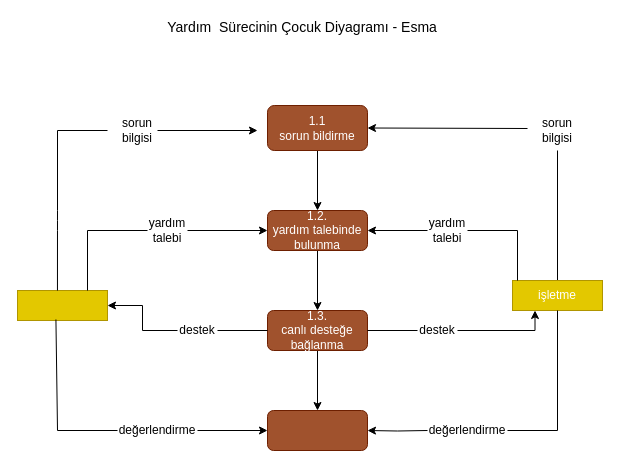
Image size: 620x468. Some labels were removed from this diagram. Here are the shapes that lost their labels. From the top down, the box of each, then its label:
(16, 290, 108, 320): müşteri
(266, 410, 368, 450): 1.4. desteği puanla
